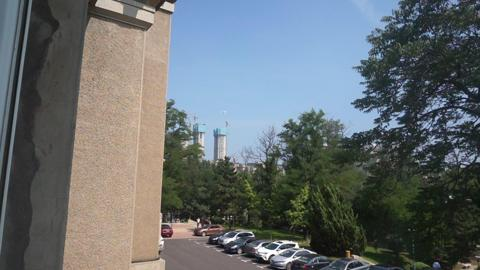UAV: (220, 111, 228, 115)
